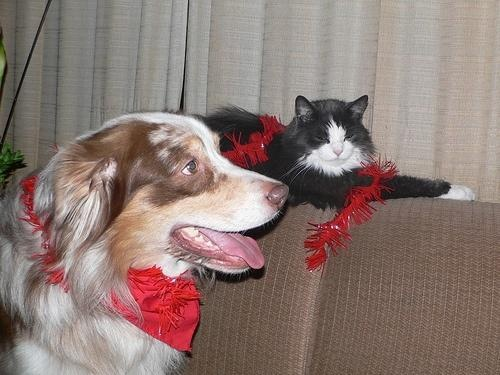cat: (214, 93, 479, 207)
dog: (2, 114, 293, 375)
